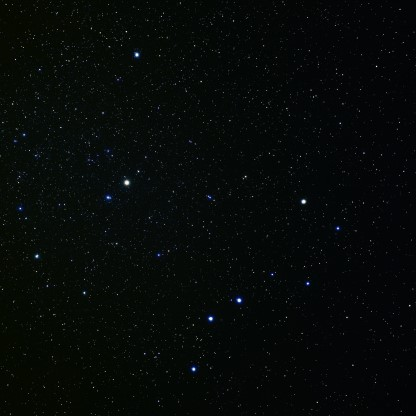Ursa Major: (182, 355, 203, 381), (229, 291, 252, 314), (293, 189, 316, 212), (201, 305, 220, 331), (295, 275, 317, 294), (329, 217, 347, 240), (262, 266, 278, 284)
